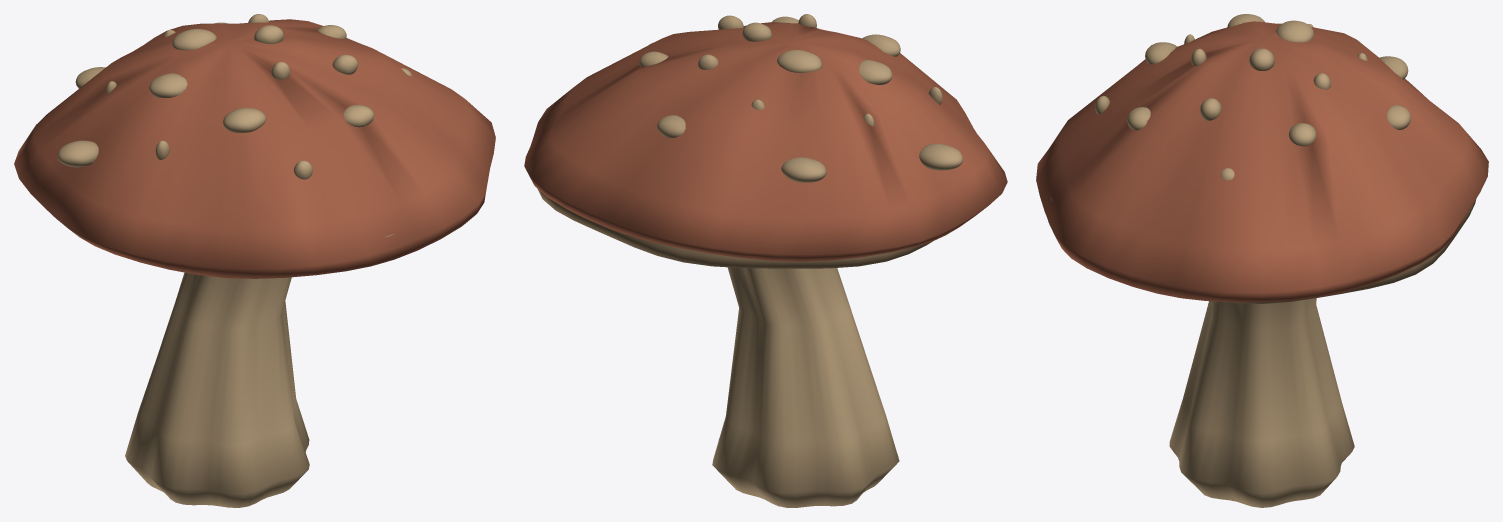
The model's file is mushroom.glb.
3 renders of one model, left to right at view 1: azimuth 30°, elevation 25°; view 2: azimuth 150°, elevation 25°; view 3: azimuth 270°, elevation 25°, orthographic.
Visible parts, largest first — view 1: Mushroom; view 2: Mushroom; view 3: Mushroom.
Boxes of the visible parts, bbox=[...] form: Mushroom: bbox=[14, 14, 495, 507]; Mushroom: bbox=[524, 14, 1007, 507]; Mushroom: bbox=[1036, 14, 1488, 507].
Size of the model in its own units: 0.4424 by 0.4376 by 0.4003.
